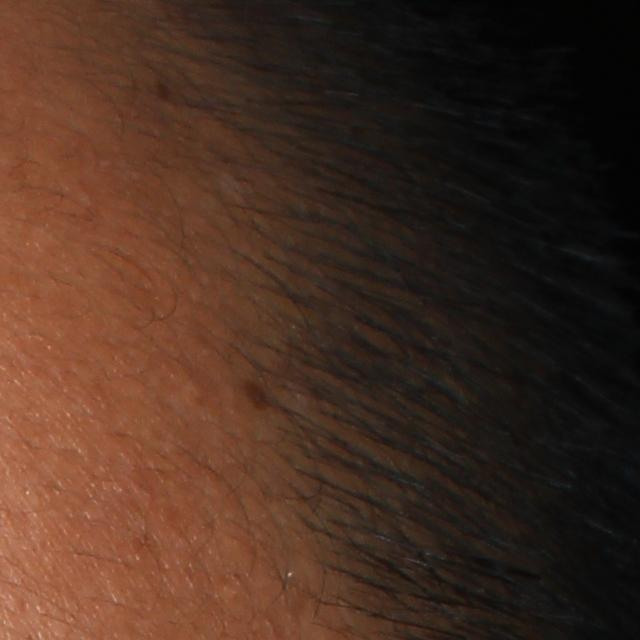nevus: (247, 380, 272, 409)
